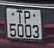0: (24, 24, 33, 40), (17, 23, 25, 40)
3: (32, 24, 40, 41)
5: (8, 22, 18, 40)
P: (24, 9, 32, 26)
T: (16, 10, 24, 24)
